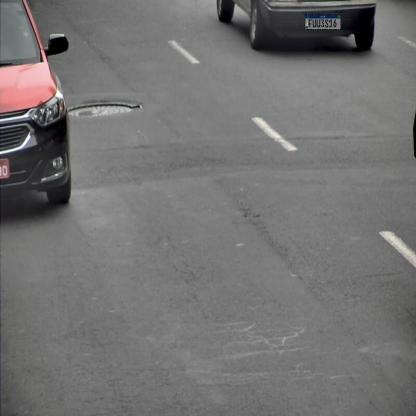PlacaM: (305, 14, 341, 30)
